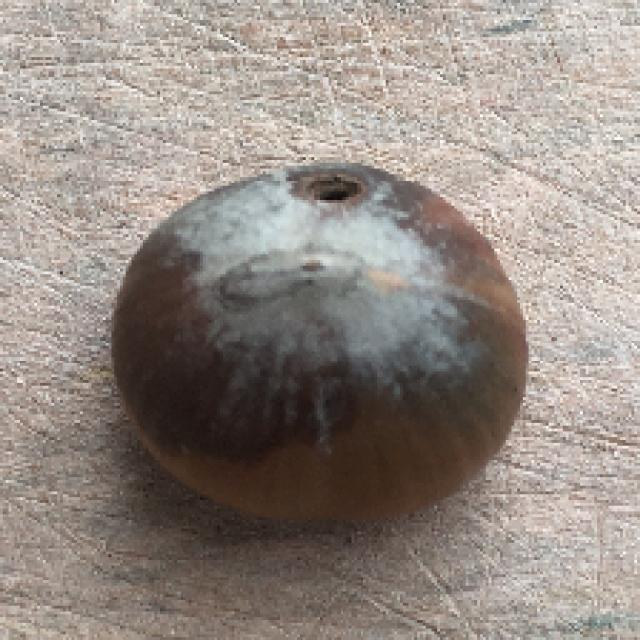DamagedHazelnut: (105, 162, 535, 521)
